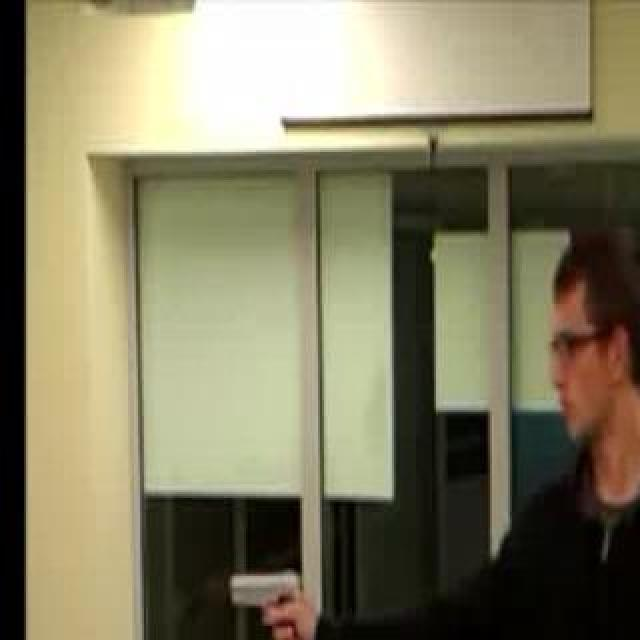Guns: (223, 557, 318, 638)
